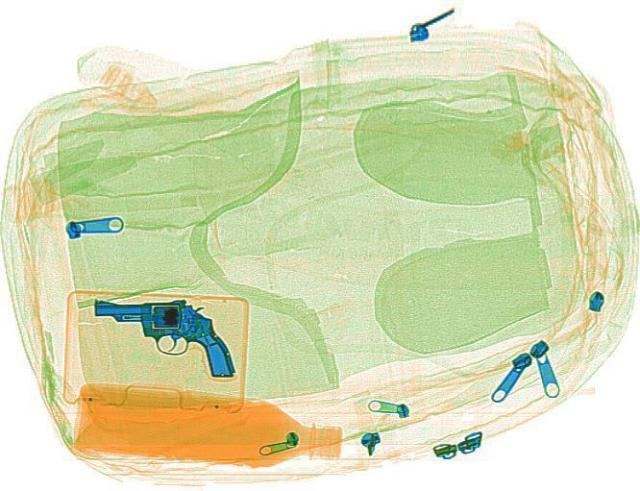Gun: (90, 295, 234, 377)
